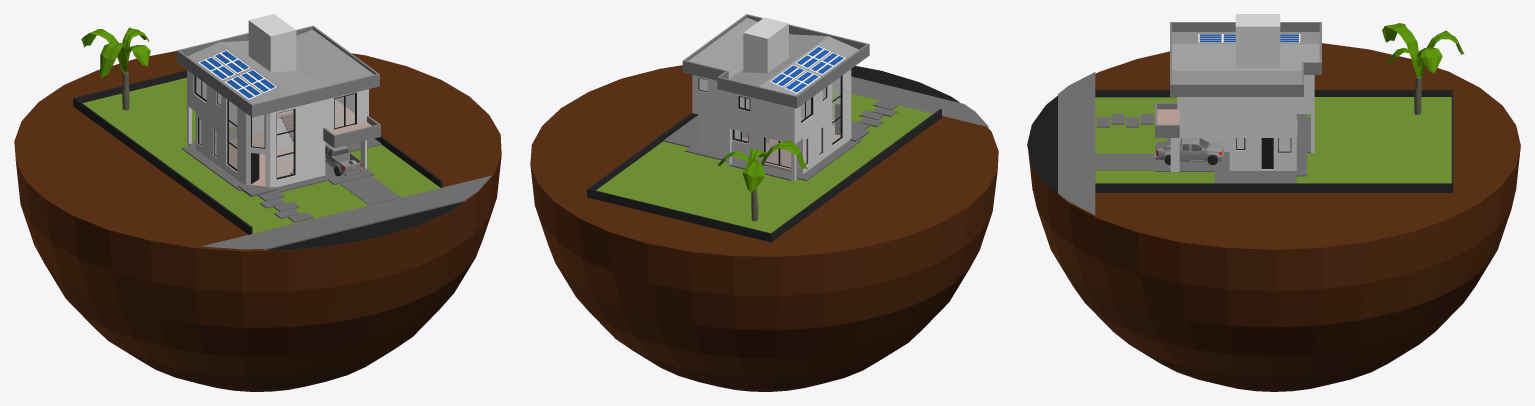
File: House-c.glb
The picture shows the model from 3 angles, left to right: view 1: azimuth 30°, elevation 25°; view 2: azimuth 150°, elevation 25°; view 3: azimuth 270°, elevation 25°; orthographic projection. The views are drawn at different scales.
Parts seen in each view (by area): view 1: Sphere, terreno, parede, pisoInferior.006, platibanda.superior, parede.001, terreno.001, Cube, pisoInferiorExt.001, palmeira.002, pisoInferiorExt, Plane.023 (+8 smaller); view 2: Sphere, terreno, parede, terreno.001, pisoInferior.006, parede.001, platibanda.superior, Cube, pisoInferiorExt, Plane.023, palmeira.002, pisoInferiorExt.001 (+3 smaller); view 3: Sphere, terreno, parede, terreno.001, pisoInferior.006, platibanda.superior, pisoInferiorExt, Cube, palmeira.002, pisoInferiorExt.001, Pickup Body, parede.001 (+2 smaller).
Boxes of the visible parts, x1,y1,x2,y2 form: Sphere: (14,51,501,391); terreno: (82,77,491,250); parede: (195,89,368,187); pisoInferior.006: (187,29,373,103); platibanda.superior: (176,25,379,117); parede.001: (187,70,325,147); terreno.001: (73,70,442,234); Cube: (248,14,296,72); pisoInferiorExt.001: (238,175,400,222); palmeira.002: (81,27,150,110); pisoInferiorExt: (181,131,381,192); Plane.023: (198,50,276,99); Sphere: (530,65,998,391); terreno: (596,66,988,232); parede: (692,74,851,174); terreno.001: (587,109,941,242); pisoInferior.006: (688,17,858,95); parede.001: (727,69,851,143); platibanda.superior: (682,14,869,108); Cube: (743,17,788,73); pisoInferiorExt: (663,115,861,180); Plane.023: (770,46,845,93); palmeira.002: (717,140,807,221); pisoInferiorExt.001: (850,100,898,141); Sphere: (1028,43,1520,391); terreno: (1027,72,1451,214); parede: (1170,97,1296,171); terreno.001: (1095,89,1453,192); pisoInferior.006: (1172,32,1319,83); platibanda.superior: (1170,22,1321,96); pisoInferiorExt: (1155,114,1310,183); Cube: (1235,14,1280,67); palmeira.002: (1382,23,1464,114); pisoInferiorExt.001: (1095,114,1154,170); Pickup Body: (1155,138,1224,161); parede.001: (1177,75,1314,113).
Bounding box in the file's own units: 33.1 × 26.03 × 33.1.
